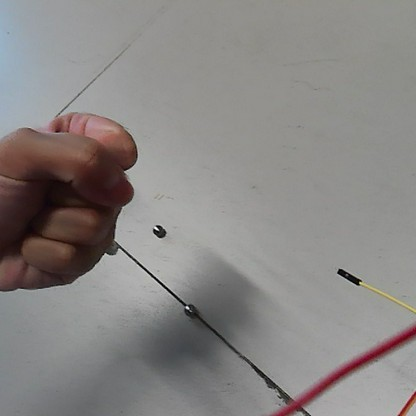ironball: (149, 220, 168, 237), (181, 301, 197, 318)
